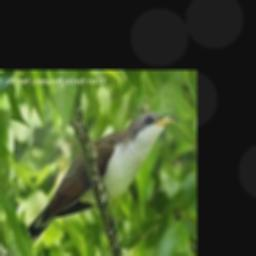Cuckoo: (2, 112, 178, 256)
